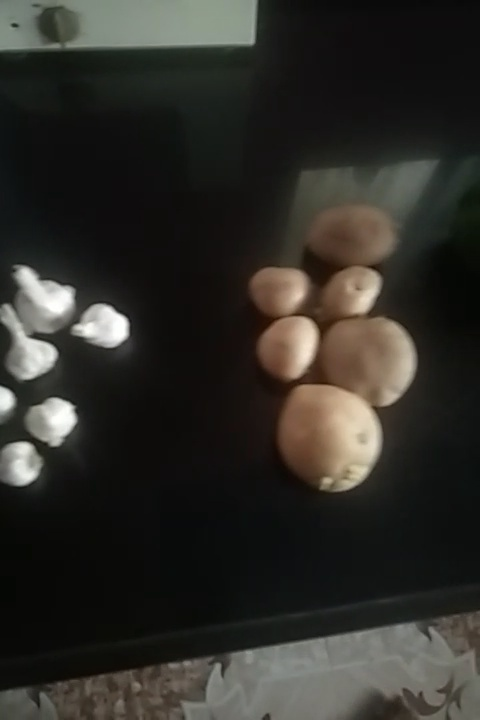garlic: (14, 264, 81, 338), (2, 311, 56, 388), (70, 298, 137, 352), (1, 438, 60, 488), (30, 402, 82, 445), (1, 385, 18, 428)
potato: (273, 379, 379, 490), (325, 321, 426, 403), (256, 313, 327, 387), (308, 213, 413, 261), (320, 264, 385, 325), (242, 264, 319, 314)
